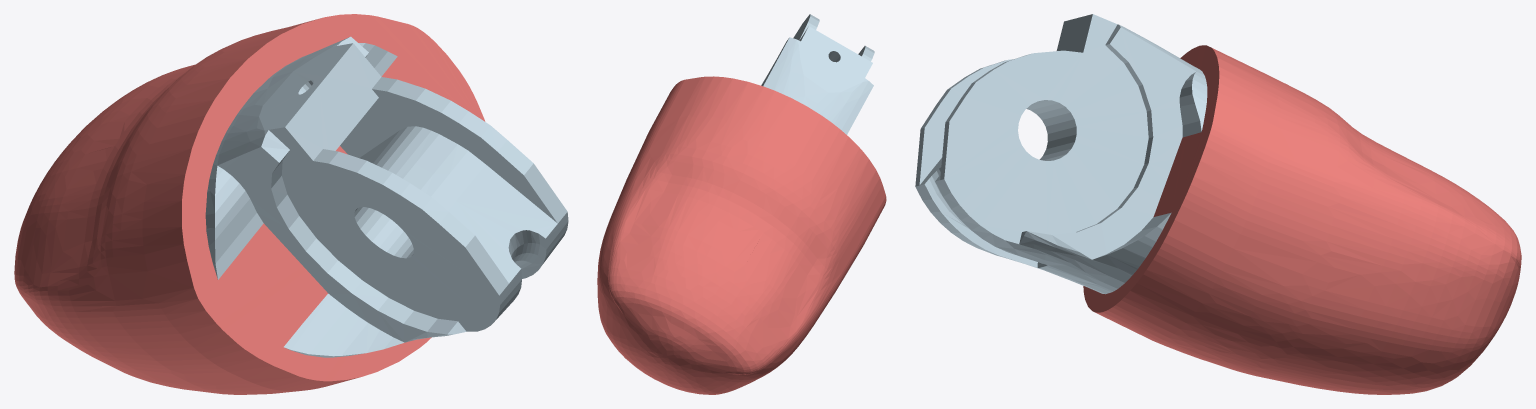
The model's file is i02_rightHand_indexTip_visual.obj.balanced.glb.
3 views of the same model, side by side, from view 1: azimuth 30°, elevation 25°; view 2: azimuth 150°, elevation 25°; view 3: azimuth 270°, elevation 25° (orthographic). The views are drawn at different scales.
Size of the model in its own units: 0.189 by 0.2409 by 0.3548.
